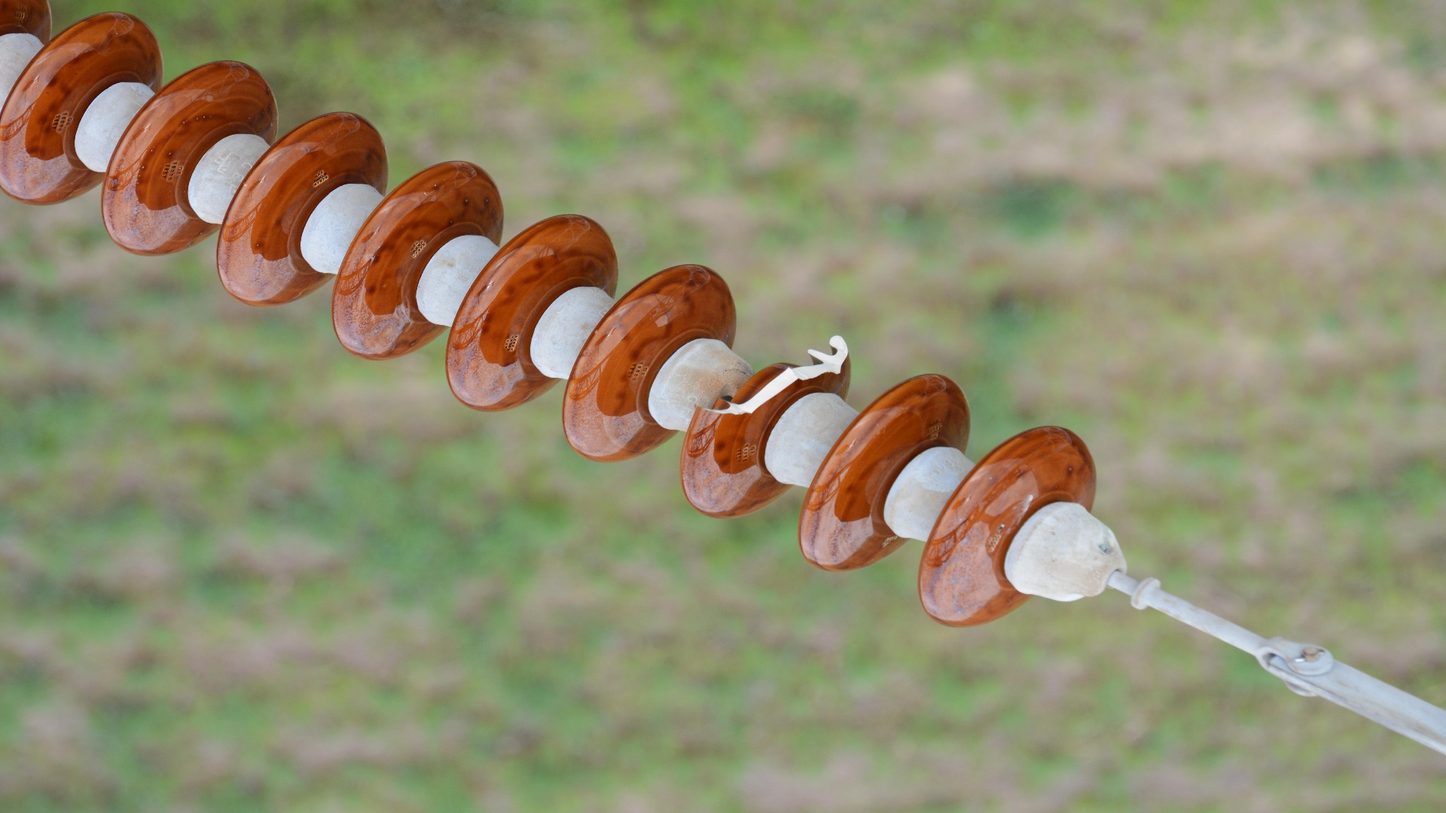insulator: (1, 1, 1103, 632)
insulator_breakage: (694, 331, 851, 420)
